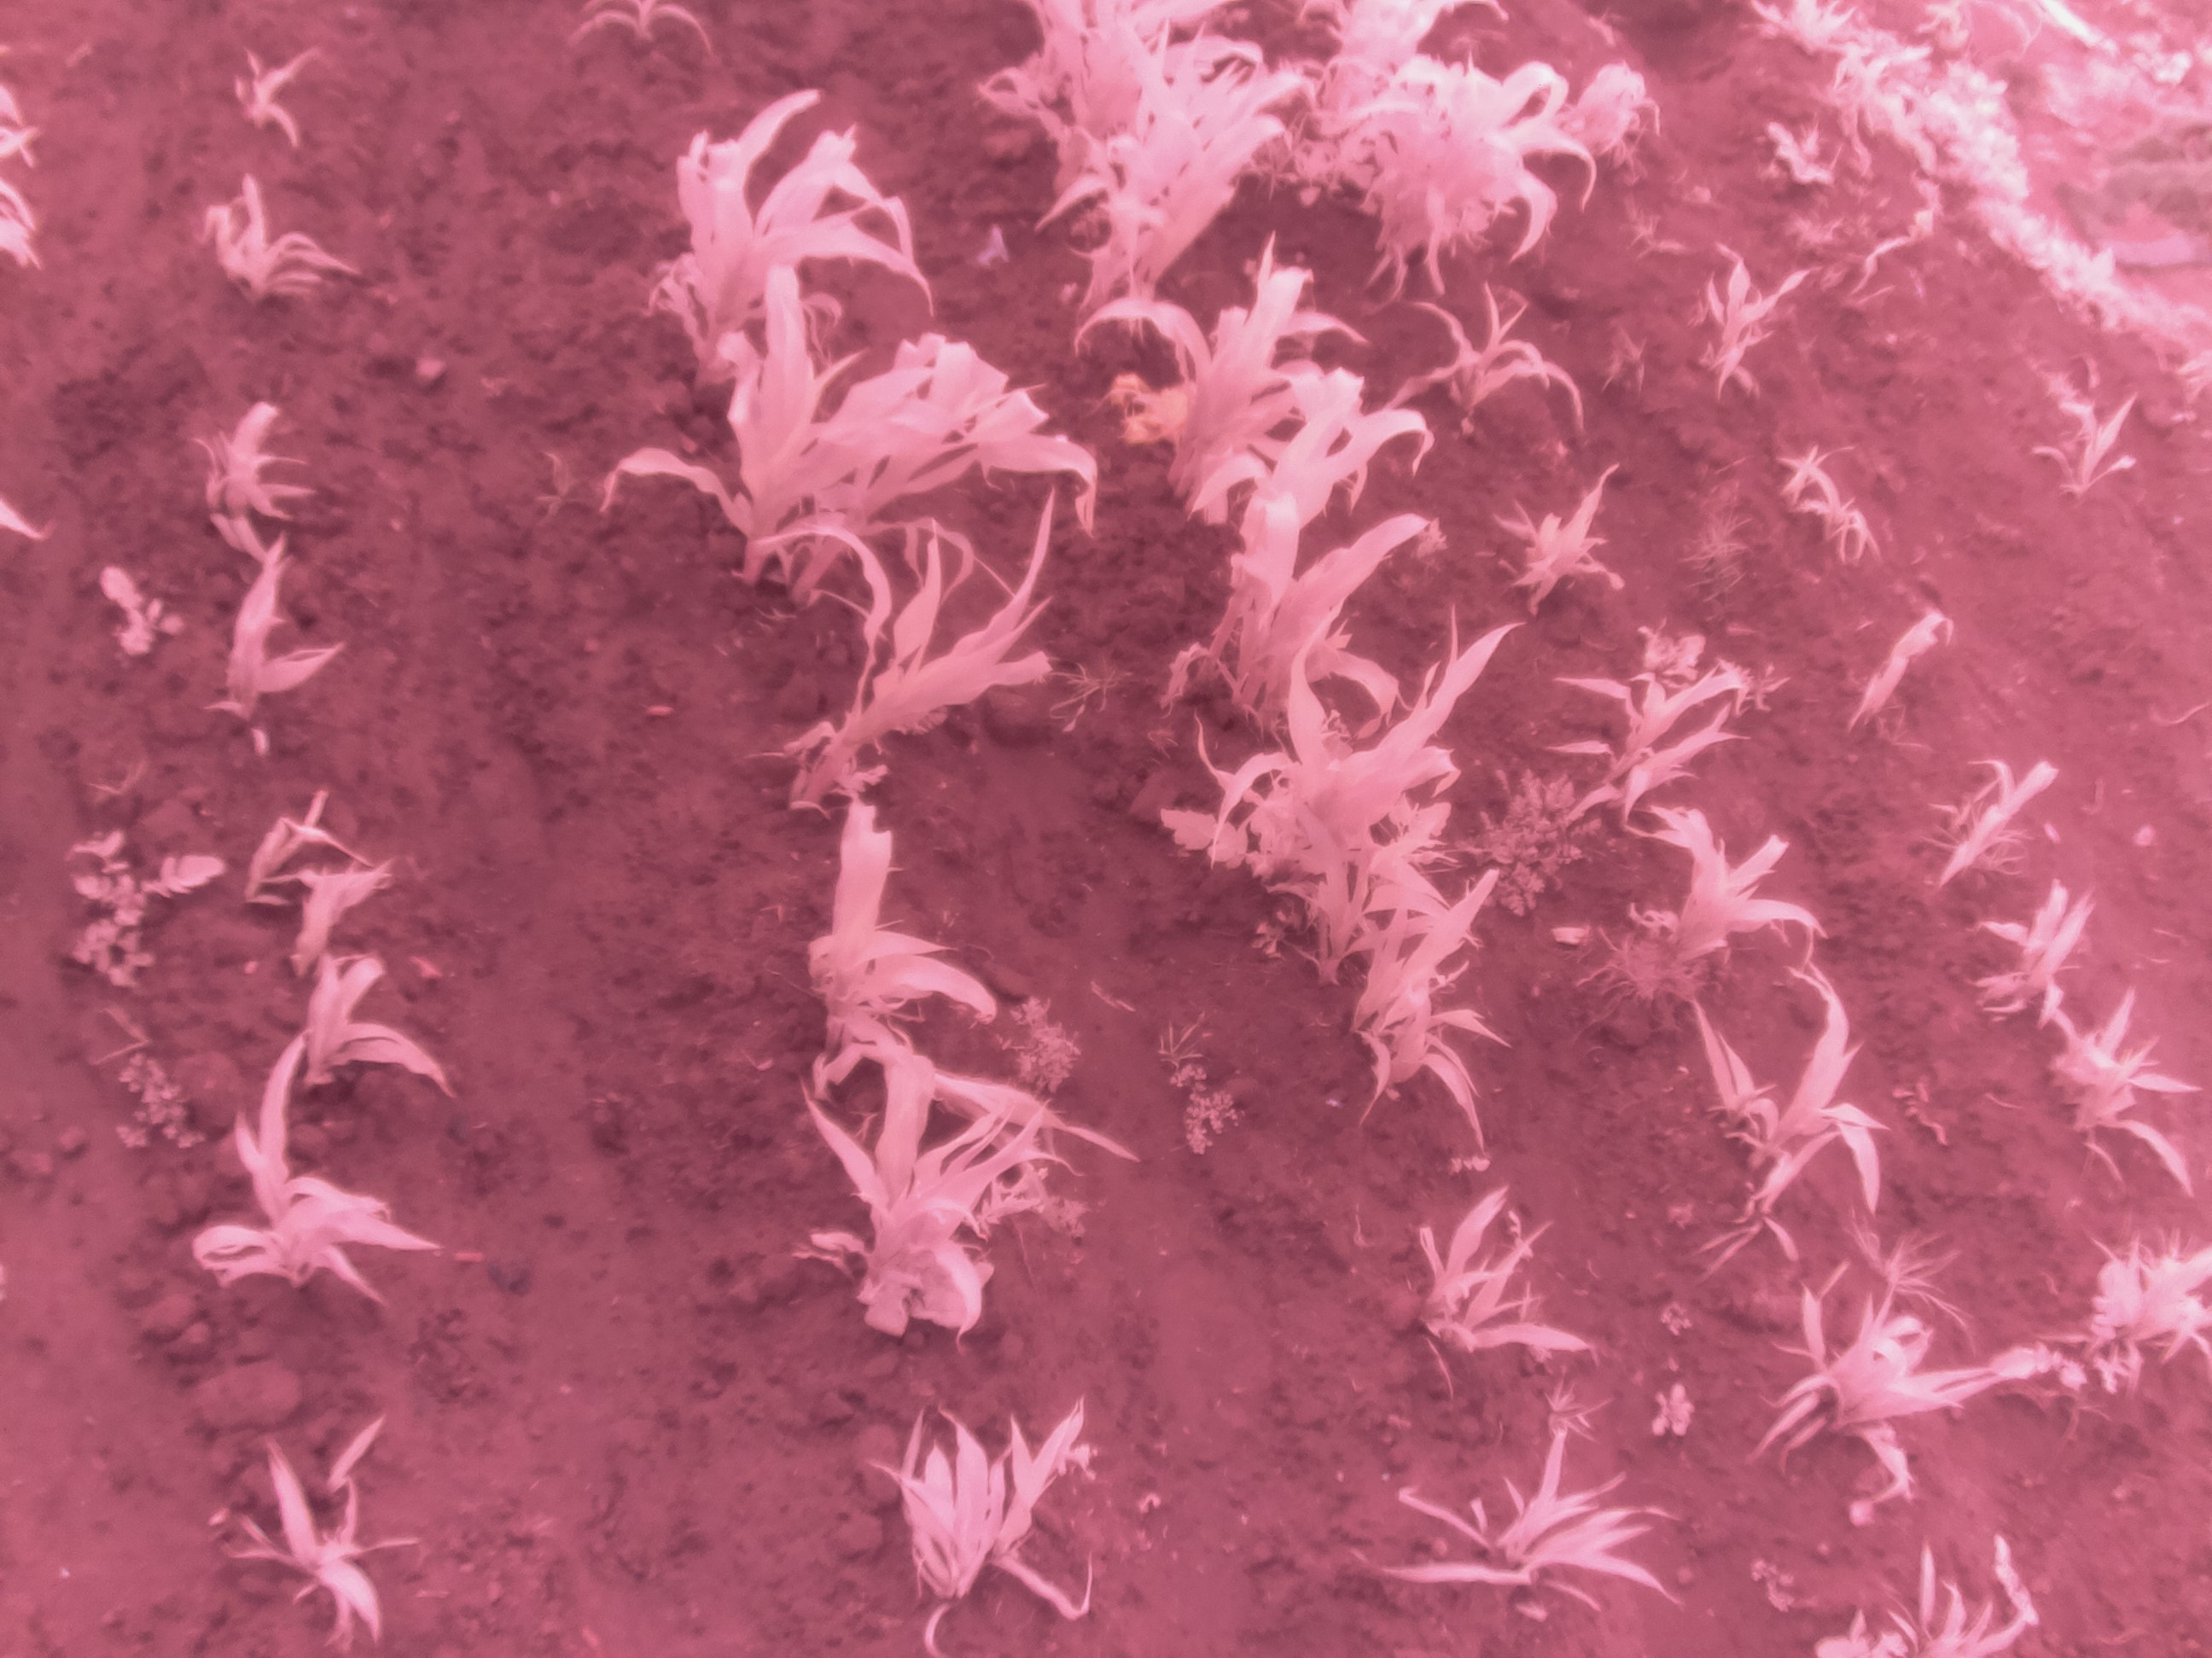Maiz: (1211, 603, 1501, 1012), (615, 78, 921, 428), (773, 307, 1109, 617), (1181, 355, 1446, 742), (1071, 225, 1357, 547), (752, 517, 1075, 801), (653, 259, 907, 606), (185, 1021, 435, 1355), (792, 1050, 1080, 1331), (840, 1381, 1127, 1653), (1757, 1266, 2027, 1513), (1649, 958, 1902, 1219), (1069, 28, 1280, 331), (787, 803, 1010, 1083), (1371, 1432, 1686, 1628), (1578, 805, 1822, 1048), (1362, 44, 1595, 273), (1527, 627, 1778, 838), (1024, 0, 1217, 247), (1374, 1170, 1597, 1385), (207, 1439, 423, 1648), (260, 930, 465, 1132), (1357, 902, 1517, 1156), (1379, 284, 1597, 460), (1284, 0, 1489, 145), (195, 552, 343, 752), (174, 395, 329, 576), (183, 172, 364, 327), (195, 773, 348, 951), (1470, 465, 1646, 610), (1848, 1531, 2047, 1658), (253, 848, 428, 984), (2059, 1005, 2195, 1177), (1919, 752, 2069, 900), (1688, 239, 1815, 408), (1977, 885, 2101, 1038), (2106, 1226, 2212, 1400), (1822, 12, 1918, 183), (1857, 599, 1959, 744), (2034, 381, 2132, 524), (223, 38, 338, 153), (542, 0, 704, 59), (1766, 432, 1871, 517), (1811, 488, 1898, 564), (1754, 0, 1867, 47)
